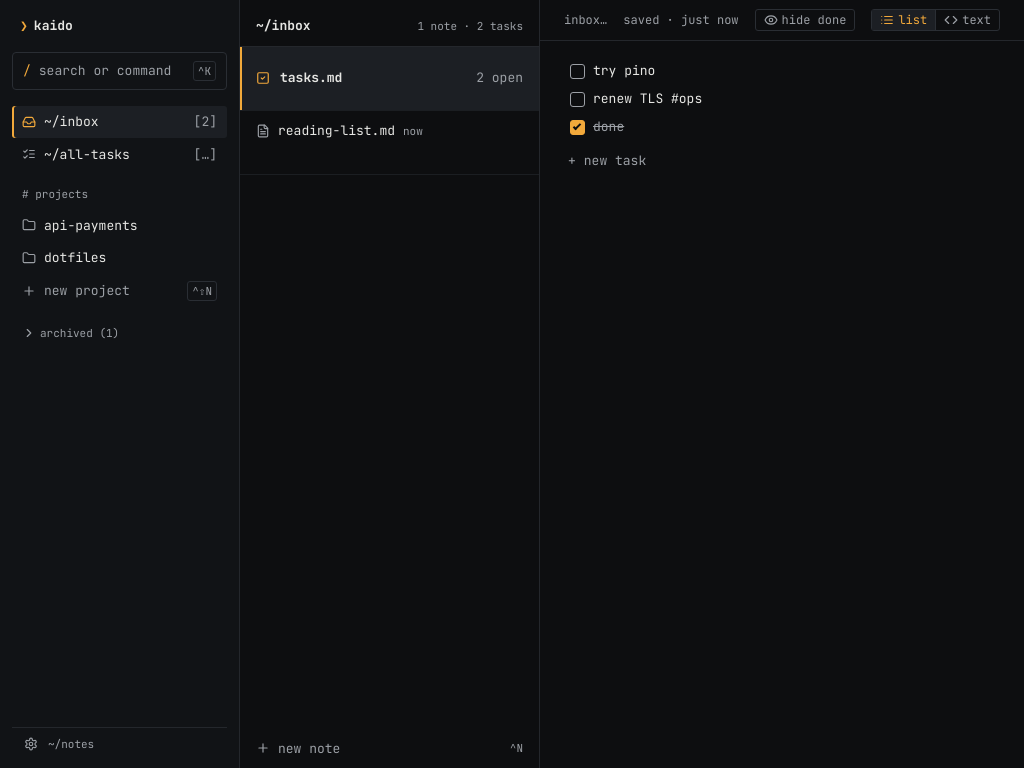
Test: AppShell with a workspace › shows placeholders while counts load
Click the button named "counting open tasks".
click(120, 154)  # box x1=12 y1=138 x2=227 y2=170
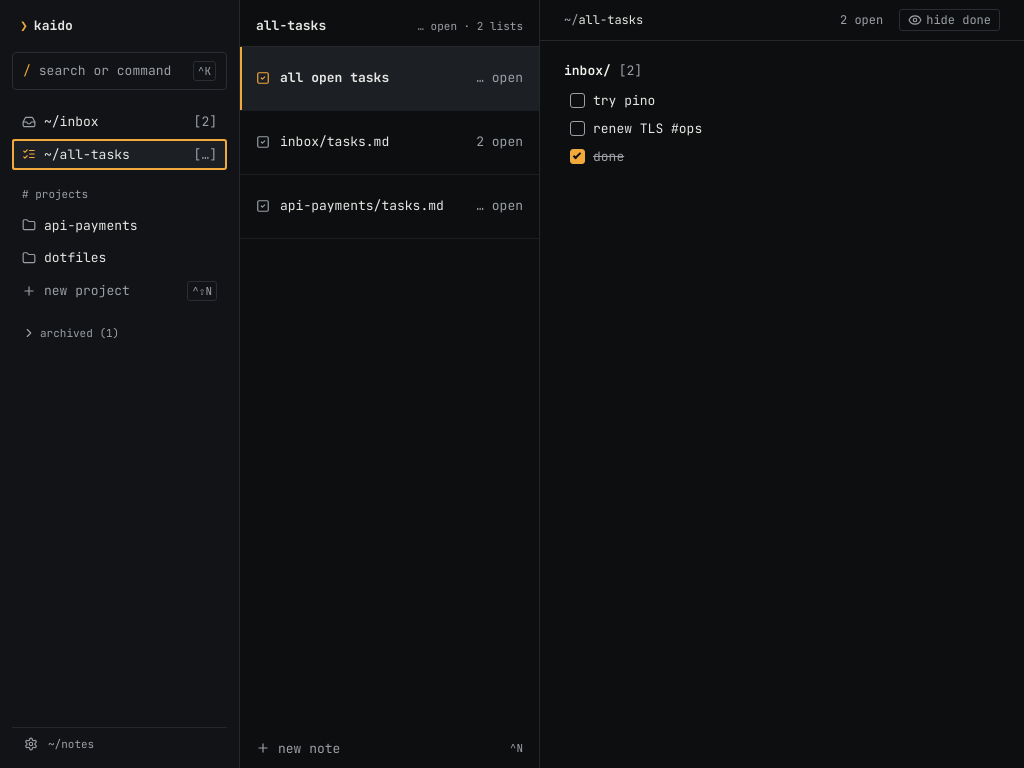
Expected: the text "… open · 2 lists" is shown, x1=417 y1=18 x2=523 y2=34
Expected: the button "api-payments/tasks.md … open" is shown, x1=240 y1=174 x2=539 y2=238
